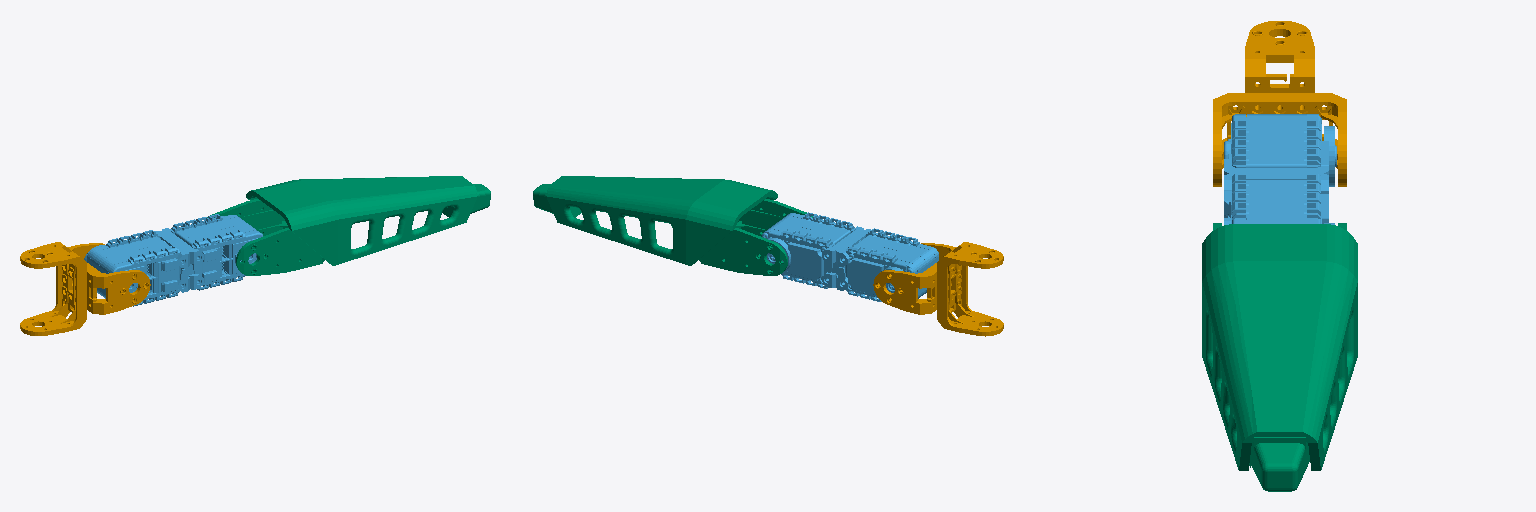
The robot description file, URDF, robot "rozh_model":
<?xml version="1.0" encoding="utf-8" ?>
<!-- =================================================================================== -->
<!-- |    This document was autogenerated by xacro from src/urdf_rozh_v1/urdf/rozh_model.xacro | -->
<!-- |    EDITING THIS FILE BY HAND IS NOT RECOMMENDED                                 | -->
<!-- =================================================================================== -->
<robot name="rozh_model">
   
    <link name="link1_p1">
        <visual>
			<origin xyz="0 0 0" rpy="0 0 0"/>
            <geometry>
                <mesh filename="package://urdf_rozh_v1/meshes/link1_fin.stl" />
            </geometry>
        </visual>
        <collision>
			<origin xyz="0 0 0" rpy="0 0 0"/>
            <geometry>
                <mesh filename="package://urdf_rozh_v1/meshes/link1_fin.stl" />
            </geometry>
        </collision>        
		<inertial>
			<origin xyz="0 0 0" rpy="0 0 0" />
            <mass value="0.015" />
            <inertia ixx="59.05" iyy="17.03" izz="17.03" ixy="0.0" ixz="0.0" iyz="0.0" />
        </inertial>
    </link>

    <link name="link2_p1">
        <visual>
			<origin xyz="0 0 0" rpy="0 0 0"/>
            <geometry>
                <mesh filename="package://urdf_rozh_v1/meshes/link2_fin.stl" />
            </geometry>
            <!-->material name="gray"/<!-->
        </visual>
        <collision>
			<origin xyz="0 0 0" rpy="0 0 0"/>
            <geometry>
                <mesh filename="package://urdf_rozh_v1/meshes/link2_collision.stl" />
            </geometry>
        </collision>
		<inertial>
			<origin xyz="0 0 0" rpy="0 0 0" />
            <mass value="0.112" />
            <inertia ixx="185.3" iyy="306" izz="3123" ixy="0.0" ixz="0.0" iyz="0.0" />
        </inertial>
    </link>

    <link name="link3_p1">
        <visual>
			<origin xyz="0 0 0" rpy="0 0 0"/>
            <geometry>
                <mesh filename="package://urdf_rozh_v1/meshes/link3_fin.stl" />
            </geometry>
            <!-->material name="gray"/<!-->
        </visual>
        <collision>
			<origin xyz="0 0 0" rpy="0 0 0"/>
            <geometry>
                <mesh filename="package://urdf_rozh_v1/meshes/link3_fin.stl" />
            </geometry>
        </collision>
		<inertial>
			<origin xyz="0 0 0" rpy="0 0 0" />
            <mass value="0.070" />
            <inertia ixx="41" iyy="64" izz="65" ixy="0.0" ixz="1" iyz="0.0" />
        </inertial>
    </link>

    <joint name="joint2_p1" type="continuous">
        <parent link="link1_p1" />
        <child link="link2_p1" />
        <origin rpy="0 0 0" xyz="5.3 -0.12 0" />
        <axis xyz="0 1 0" />
    </joint>
    <joint name="joint3_p1" type="continuous">
        <parent link="link2_p1" />
        <child link="link3_p1" />
        <origin rpy="0 0 3.14159265359" xyz="8.3 0.12 0" />
        <axis xyz="0 1 0" />
    </joint>

    <gazebo>
        <plugin name="gazebo_ros_control" filename="libgazebo_ros_control.so">
            <robotNamespace>/</robotNamespace>
        </plugin>
    </gazebo>
   
</robot>

--- Facts derived from the render (not from the file) ---
3 views of the same robot in one strip: view 1: azimuth 30°, elevation 25°; view 2: azimuth 150°, elevation 25°; view 3: azimuth 270°, elevation 25° (orthographic).
Robot: rozh_model — 3 links, 2 joints (2 continuous); root link link1_p1; default pose: every joint at zero.
Links seen in each view (by area): view 1: link3_p1, link2_p1, link1_p1; view 2: link3_p1, link2_p1, link1_p1; view 3: link3_p1, link2_p1, link1_p1.
Link boxes in pixels (x1=…): link3_p1: x1=207, y1=176, x2=490, y2=275; link2_p1: x1=84, y1=214, x2=262, y2=306; link1_p1: x1=20, y1=242, x2=150, y2=335; link3_p1: x1=533, y1=176, x2=812, y2=275; link2_p1: x1=762, y1=212, x2=938, y2=301; link1_p1: x1=873, y1=242, x2=1003, y2=336; link3_p1: x1=1202, y1=223, x2=1357, y2=491; link2_p1: x1=1224, y1=114, x2=1336, y2=224; link1_p1: x1=1213, y1=21, x2=1346, y2=186.
Size in the robot's own frame: 32.31 by 5.6 by 4.85 metres.
3 mesh visuals loaded from 3 distinct referenced files (3 binary STL).
